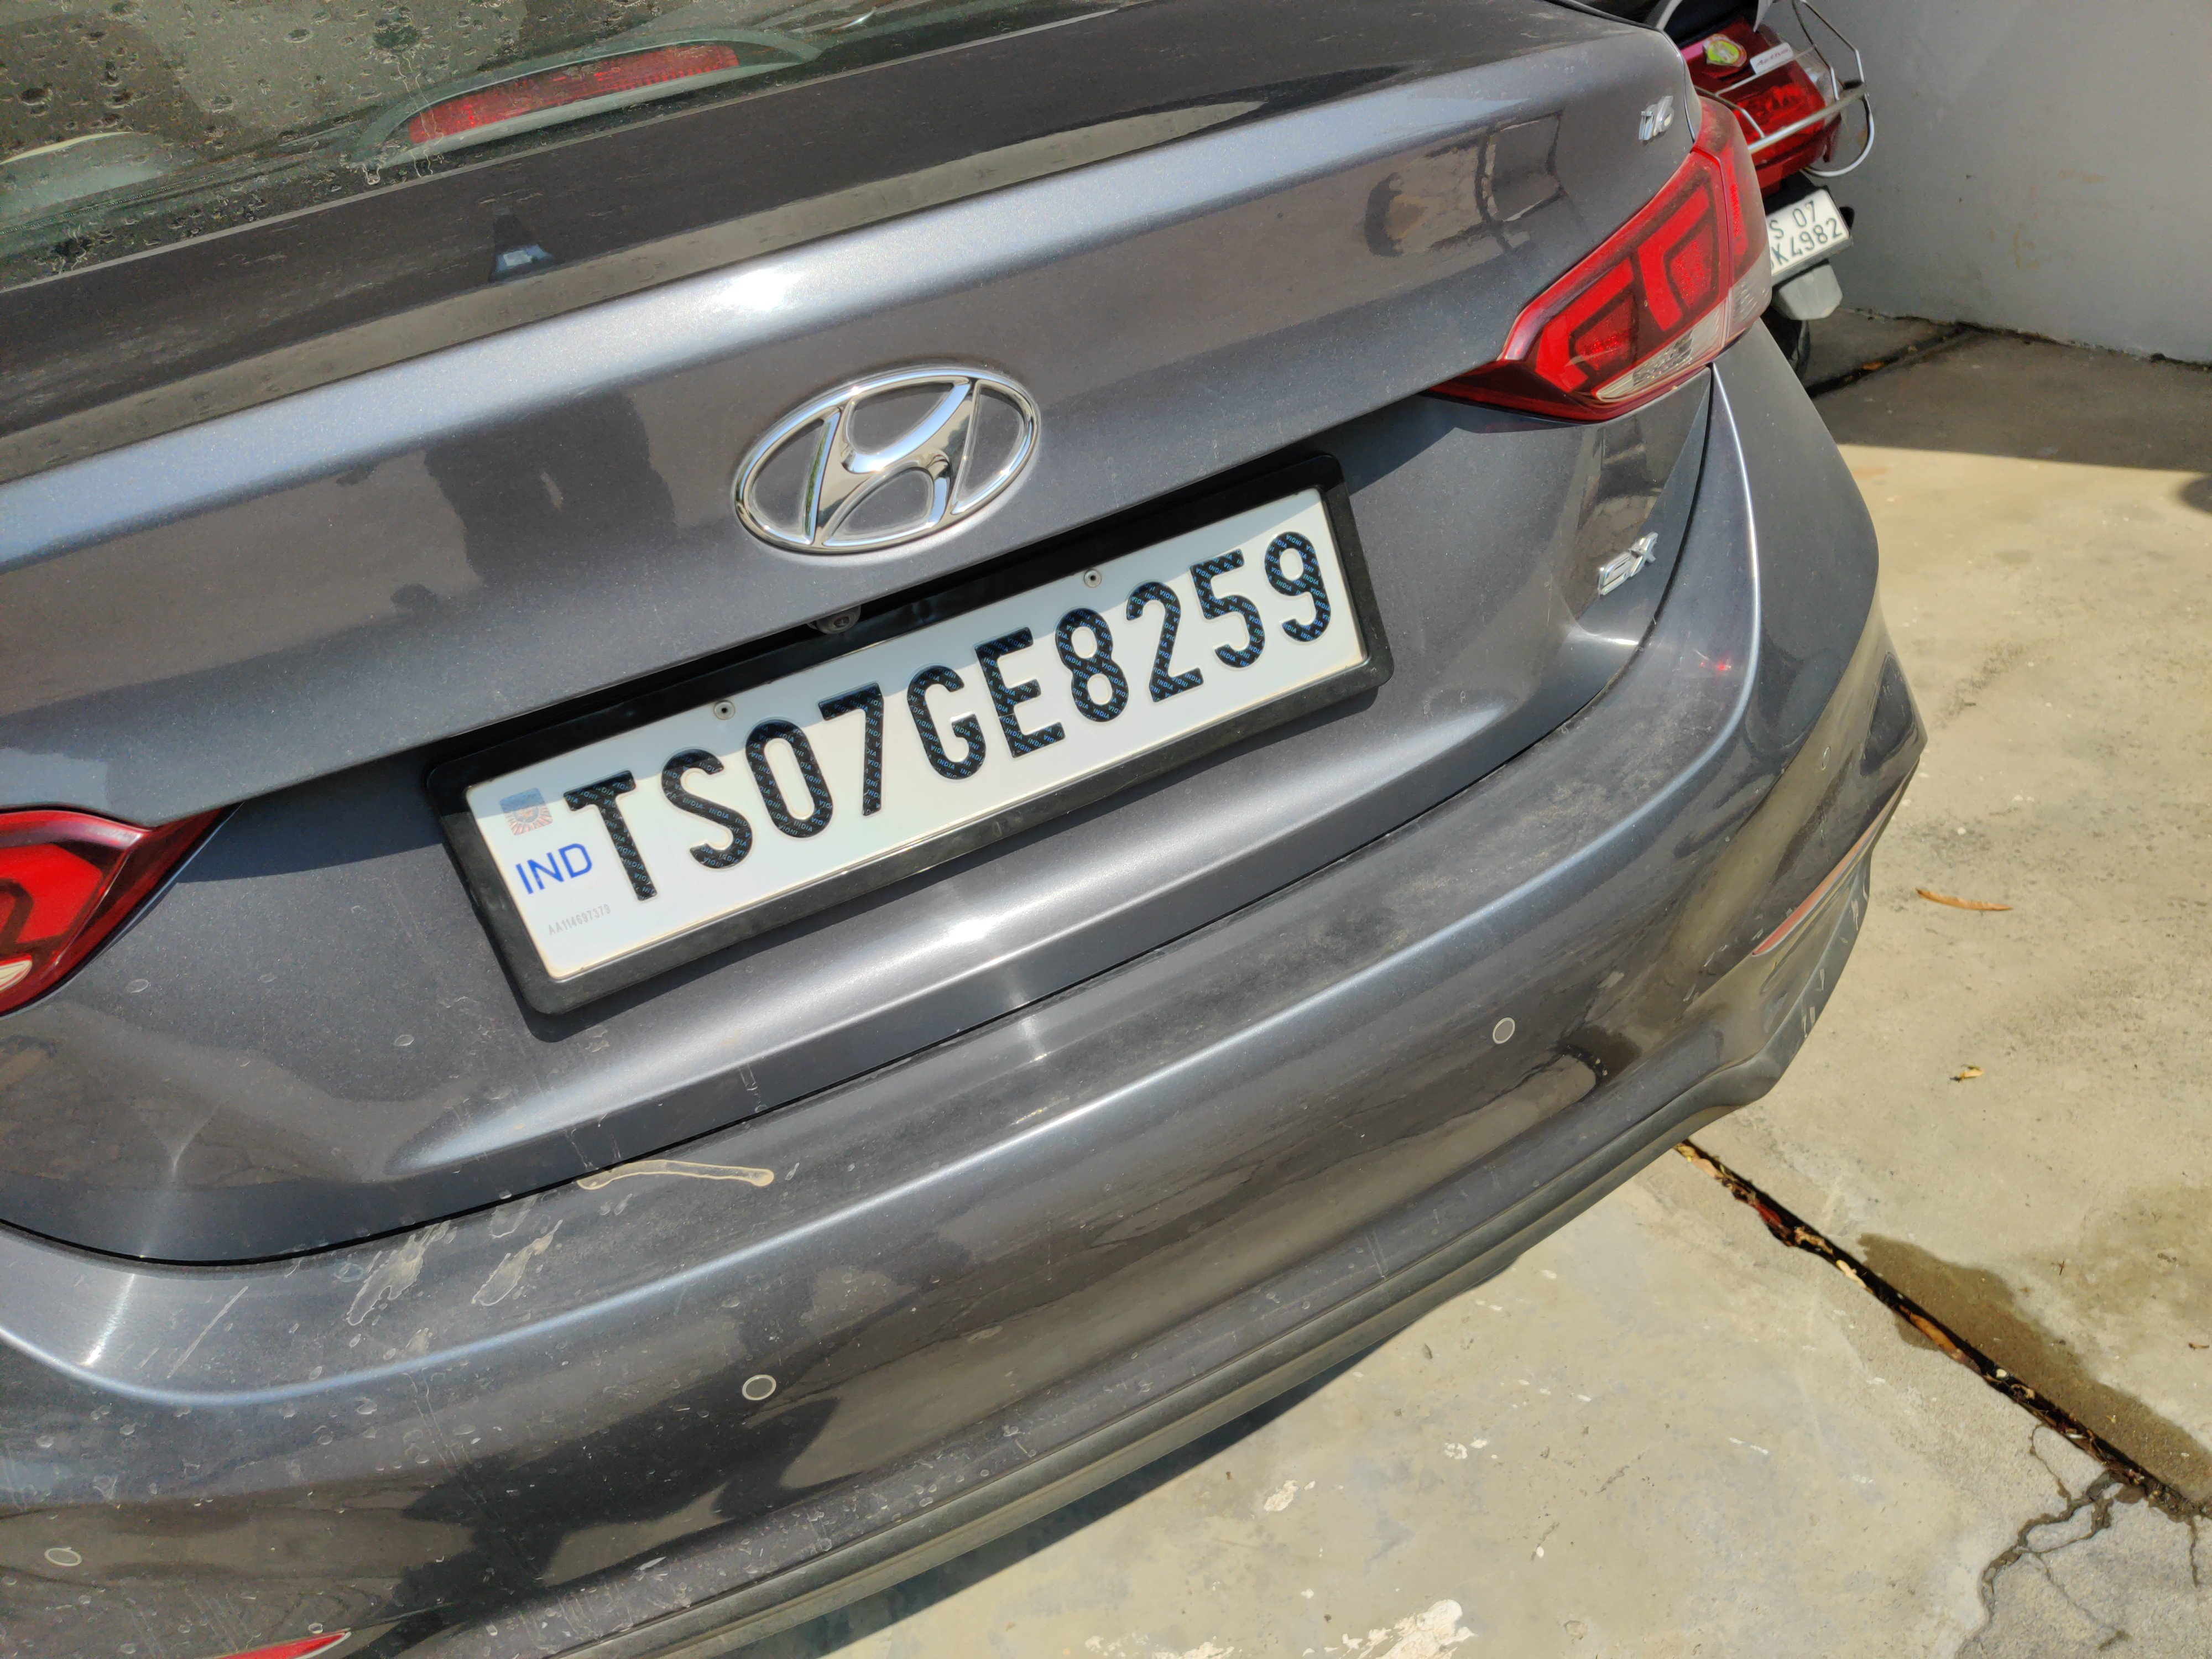plate: (392, 440, 1452, 1044)
